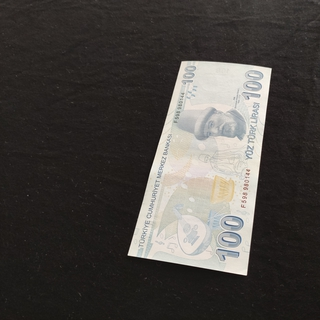100TLBack: (127, 59, 272, 276)
